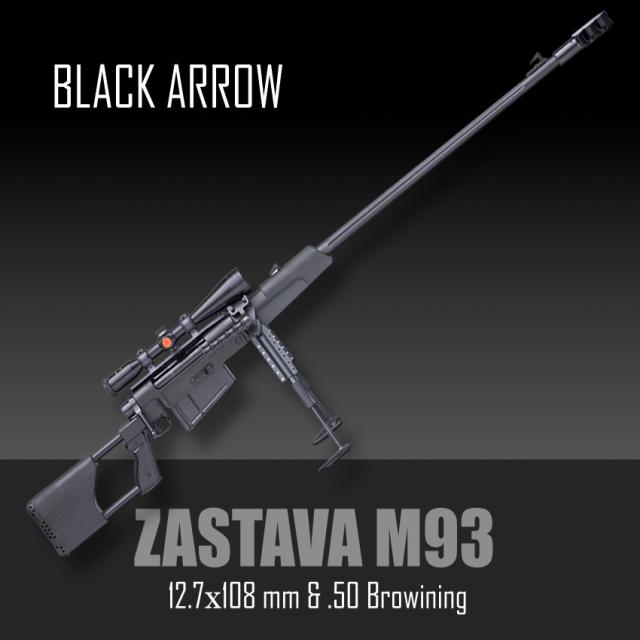Rifle: (26, 11, 617, 559)
